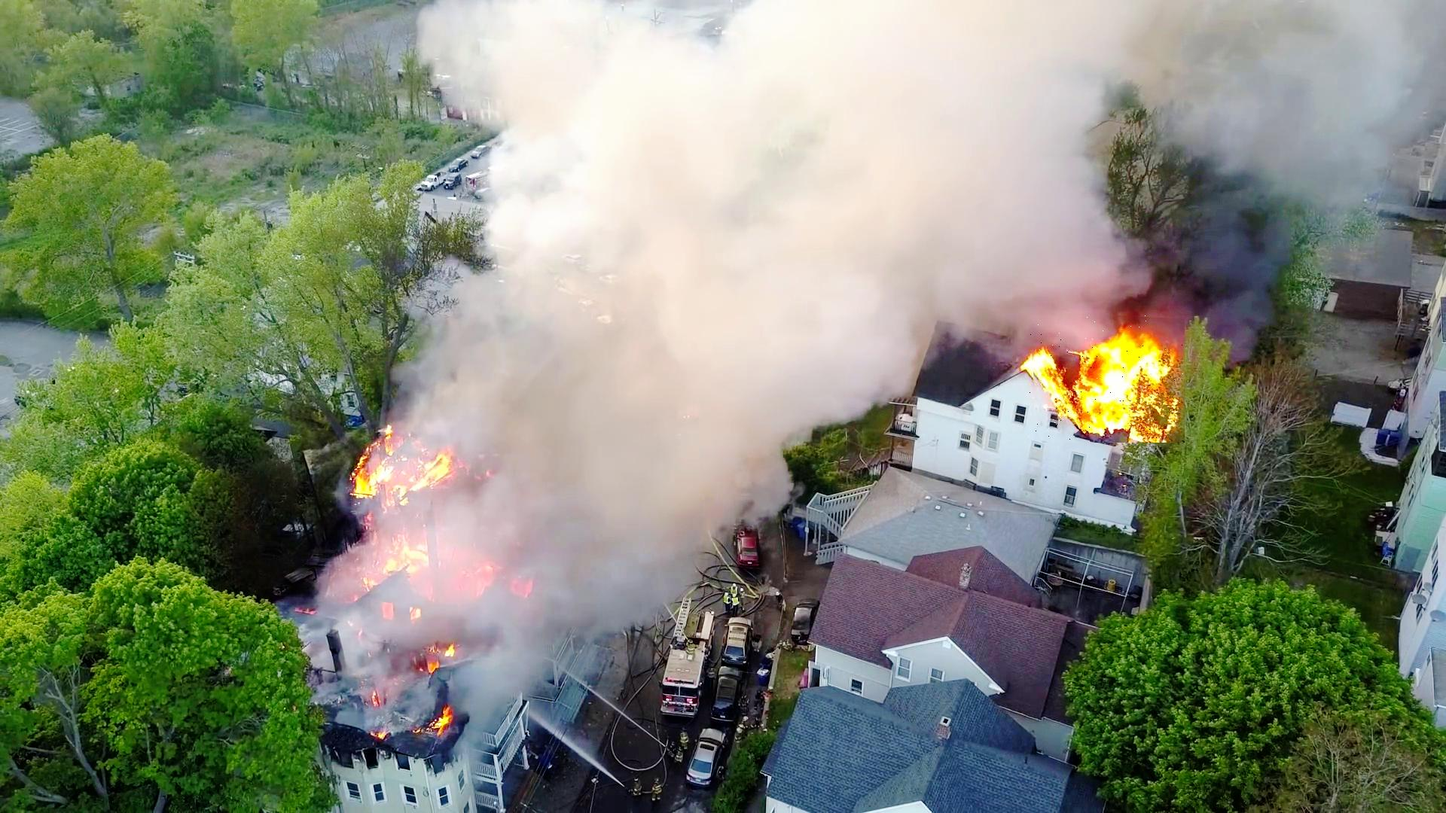fire: (1028, 311, 1185, 443)
